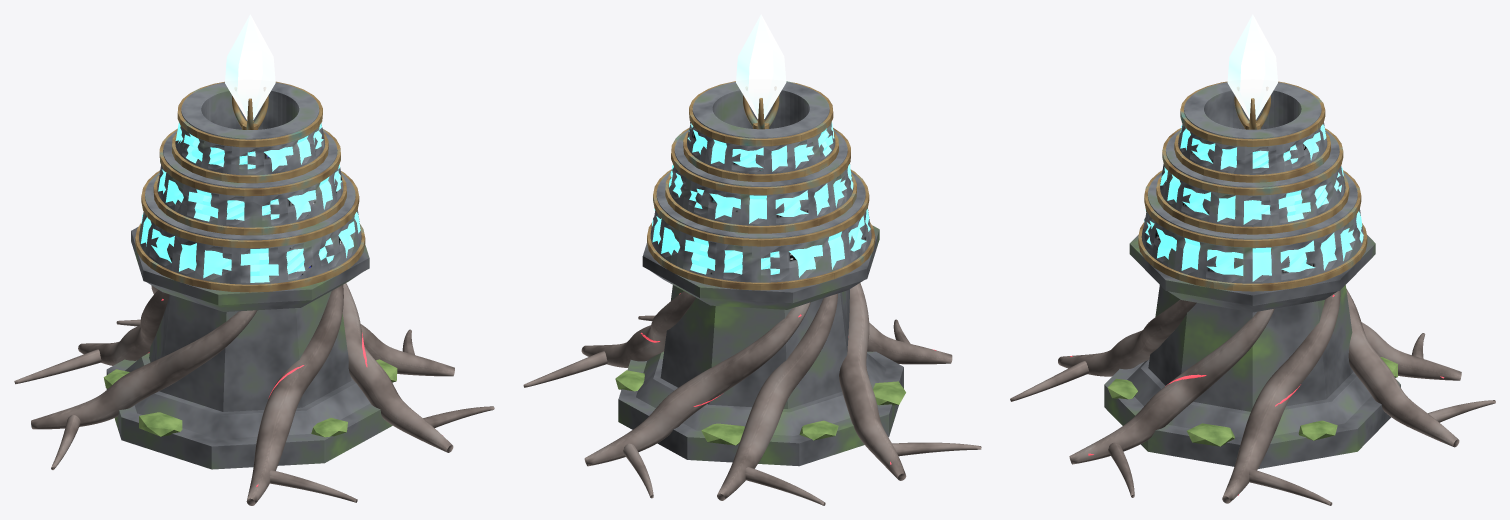
File: rune_obelisk.glb
3 views of the same model, side by side, from view 1: azimuth 30°, elevation 25°; view 2: azimuth 150°, elevation 25°; view 3: azimuth 270°, elevation 25° (orthographic).
Visible parts, largest first — view 1: Obelisk_Static_Body, Lower_Ring, Upper_Ring, Middle_Ring; view 2: Obelisk_Static_Body, Lower_Ring, Upper_Ring, Middle_Ring; view 3: Obelisk_Static_Body, Lower_Ring, Upper_Ring, Middle_Ring.
Part boxes in pixels (x1,y1,x2,y2): Obelisk_Static_Body: (14,14,494,505); Lower_Ring: (135,171,365,292); Upper_Ring: (172,81,328,183); Middle_Ring: (153,128,346,235); Obelisk_Static_Body: (523,14,981,505); Lower_Ring: (647,169,875,290); Upper_Ring: (683,81,838,181); Middle_Ring: (665,128,856,233); Obelisk_Static_Body: (1010,14,1495,505); Lower_Ring: (1138,170,1367,291); Upper_Ring: (1174,81,1330,182); Middle_Ring: (1156,128,1349,234).
Size of the model in its own units: 2.34 by 2.17 by 2.4.
8 materials, 5 textured.
